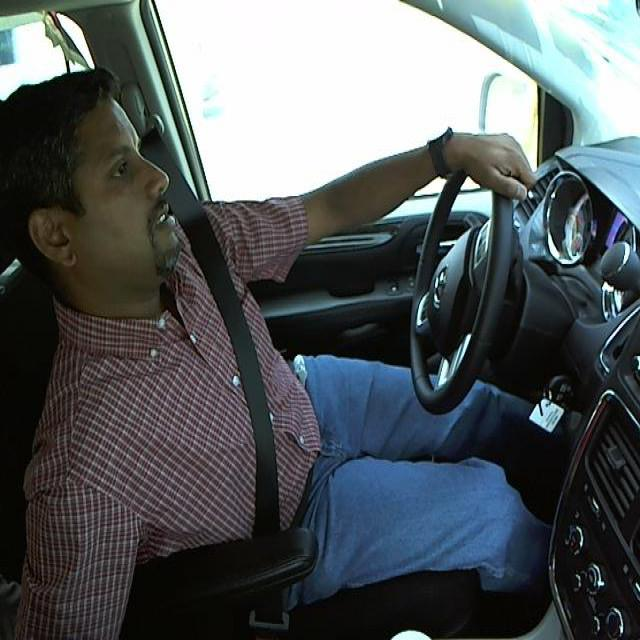seatbelt: (187, 229, 311, 551)
